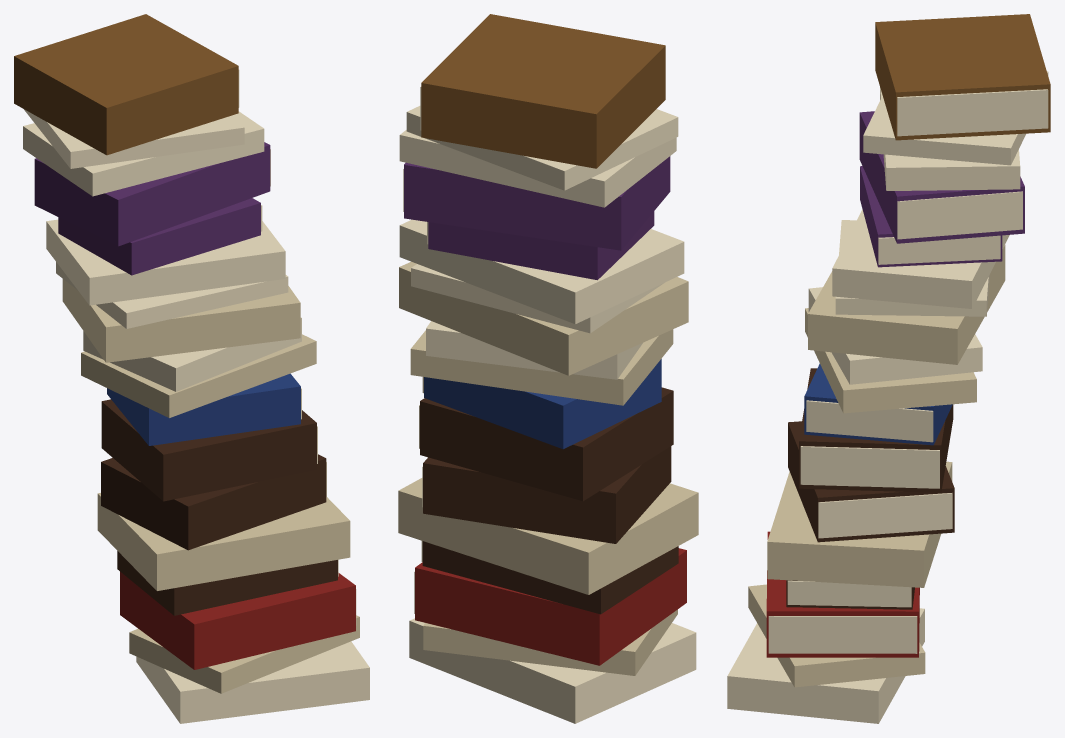
Rendered from paper_tower_b.glb.
3 renders of one model, left to right at view 1: azimuth 30°, elevation 25°; view 2: azimuth 150°, elevation 25°; view 3: azimuth 270°, elevation 25°, orthographic. The views are drawn at different scales.
Visible parts, largest first — view 1: paper_tower_b2; view 2: paper_tower_b2; view 3: paper_tower_b2.
Part boxes in pixels (bbox=[...]): paper_tower_b2: bbox=[14, 14, 369, 723]; paper_tower_b2: bbox=[398, 14, 698, 723]; paper_tower_b2: bbox=[727, 14, 1050, 723].
Size of the model in its own units: 1.08 by 2.47 by 1.22.
